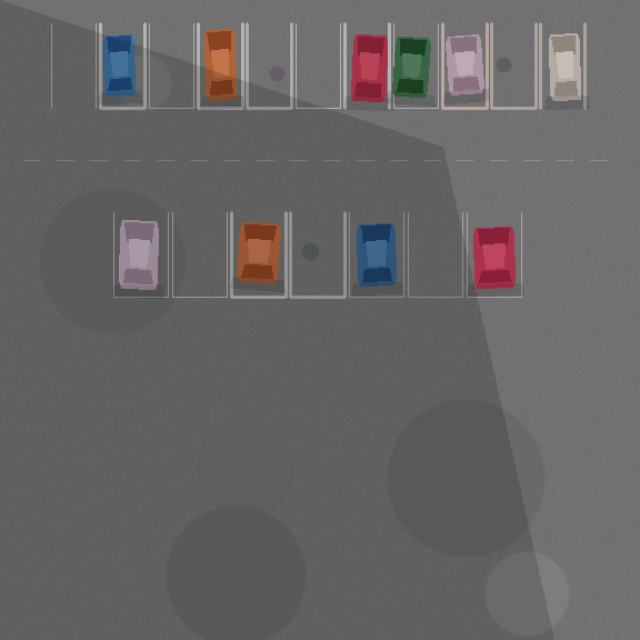space-empty: (172, 212, 227, 297), (290, 212, 344, 297), (408, 212, 462, 297), (51, 23, 96, 108), (491, 23, 536, 108), (149, 23, 193, 108), (247, 23, 291, 108), (296, 23, 340, 108)
space-occupied: (113, 212, 168, 297), (231, 212, 286, 297), (349, 212, 403, 297), (467, 212, 521, 297), (344, 23, 389, 108), (393, 23, 438, 108), (442, 23, 487, 108), (100, 23, 144, 108), (198, 23, 242, 108), (540, 23, 584, 108)
